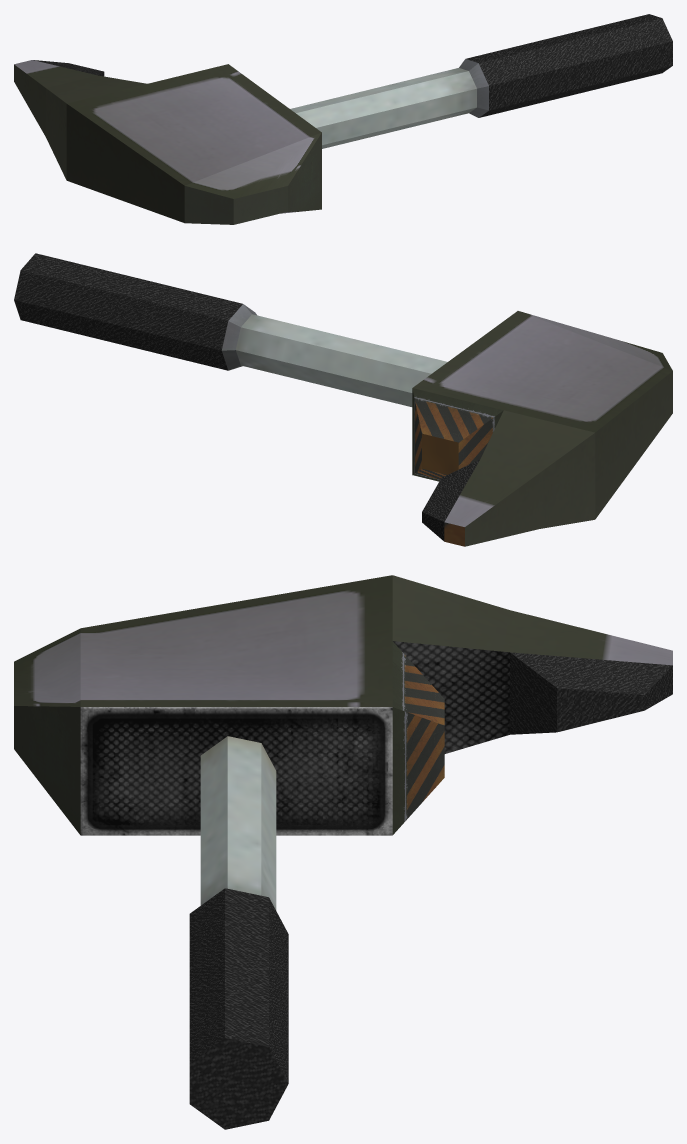
The model's file is Tool_02.fbx.
3 renders of one model, top to bottom at view 1: azimuth 30°, elevation 25°; view 2: azimuth 150°, elevation 25°; view 3: azimuth 270°, elevation 25°, orthographic. The views are drawn at different scales.
Parts seen in each view (by area): view 1: Tool_02; view 2: Tool_02; view 3: Tool_02.
Part boxes in pixels (x1,y1,x2,y2): Tool_02: [14, 14, 672, 224]; Tool_02: [14, 253, 672, 546]; Tool_02: [14, 575, 672, 1129].
Size of the model in its own units: 48.4 by 6.54 by 30.33.
